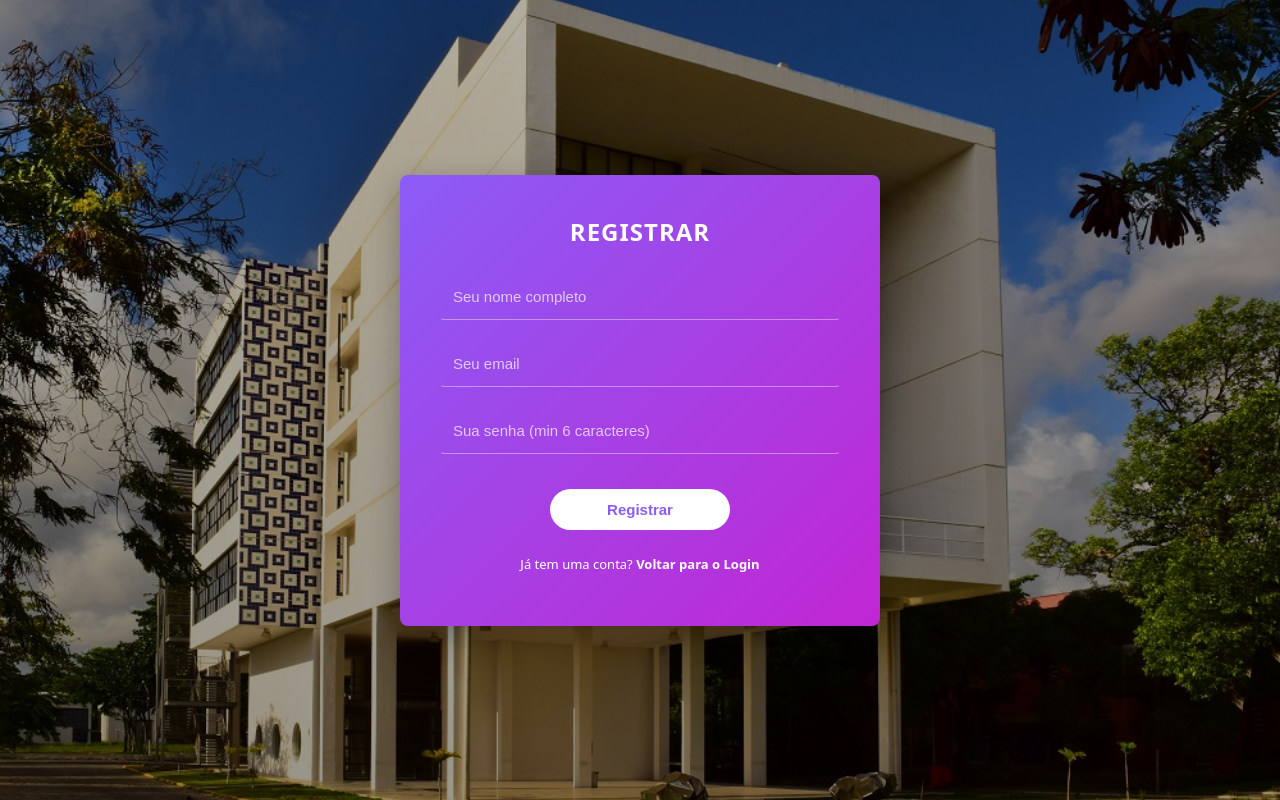
Scenario: Página de Registro › deve bloquear o registro se a senha tiver menos de 6 caracteres
The image size is (1280, 800).
Type "Novo Usuário" into the field with placeholder "Seu nome completo".
click(640, 296); type("Novo Usuário")  # box [453,284,827,308]
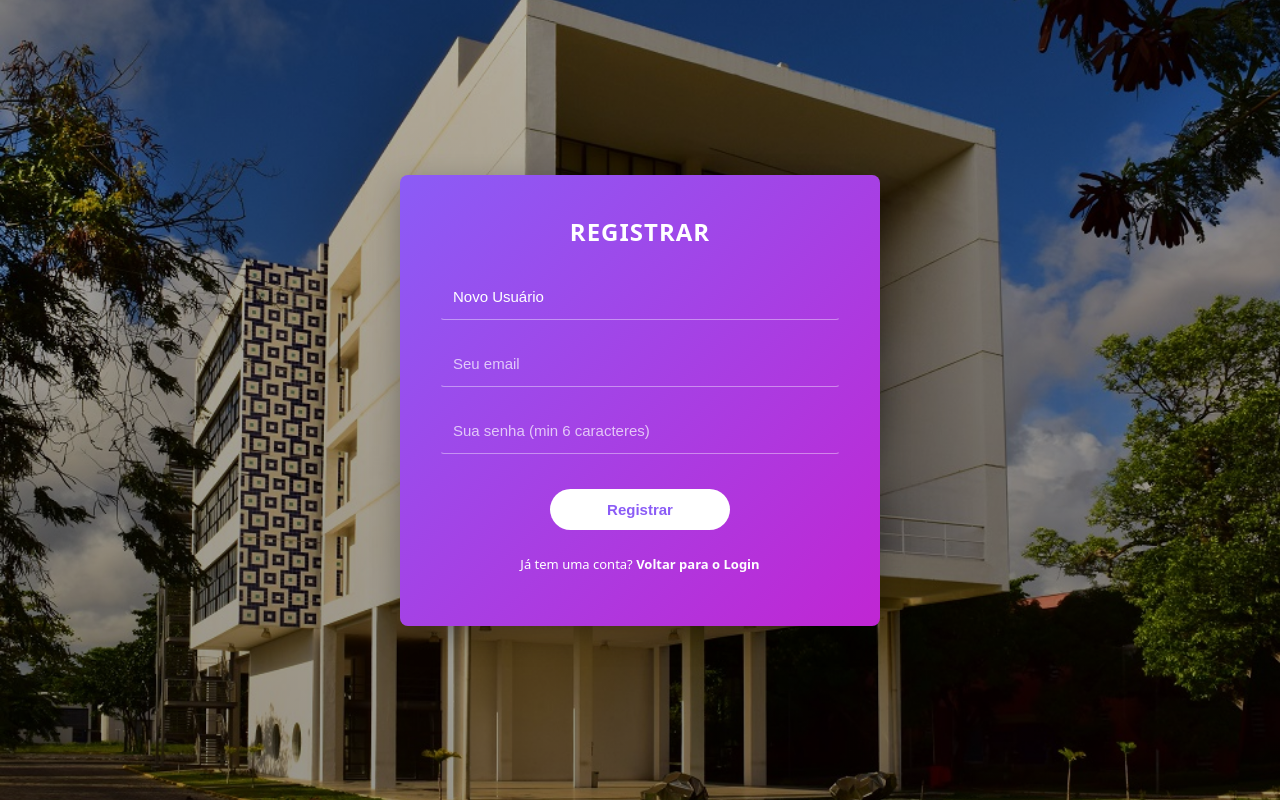
Type "novo@gmail.com" into the field with placeholder "Seu email".
click(640, 363); type("novo@gmail.com")  # box [453,350,827,376]
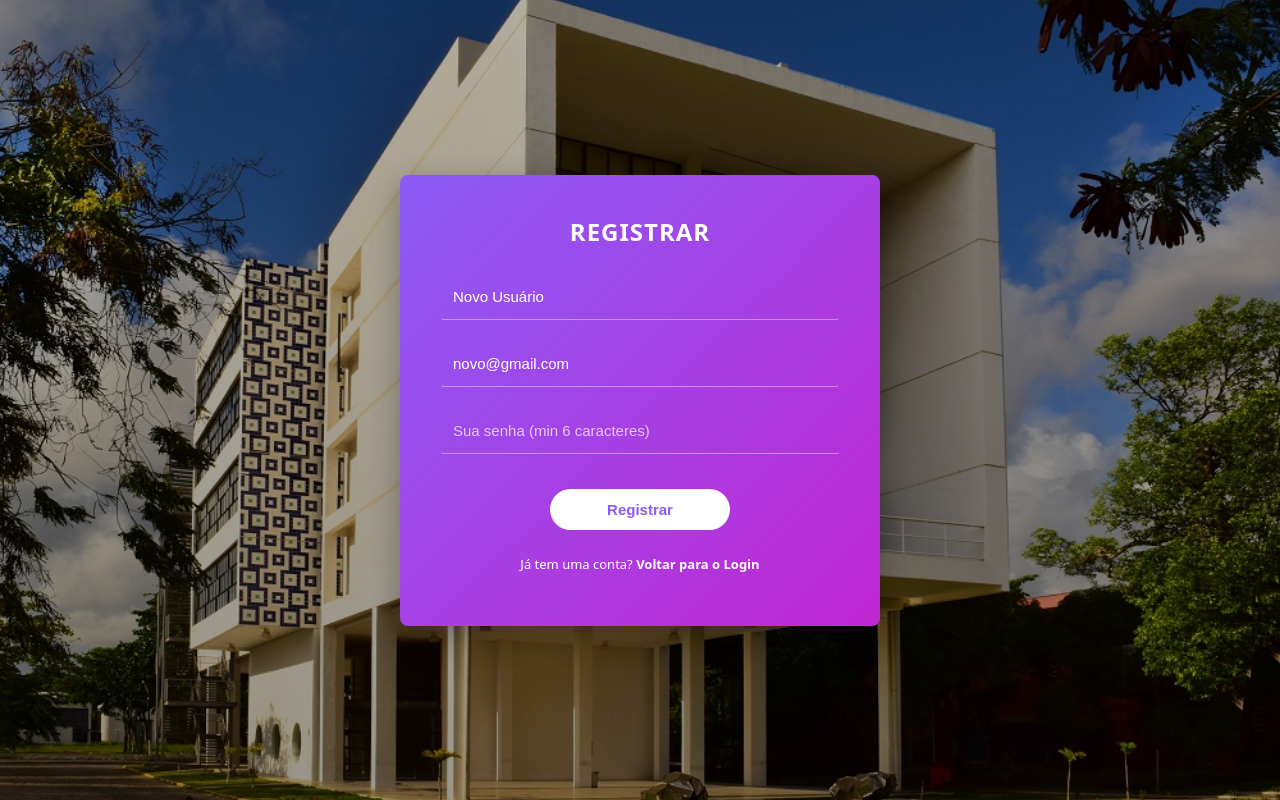
Type "12345" into the password field with placeholder "Sua senha (min 6 caracteres)".
click(640, 430); type("12345")  # box [453,418,827,442]
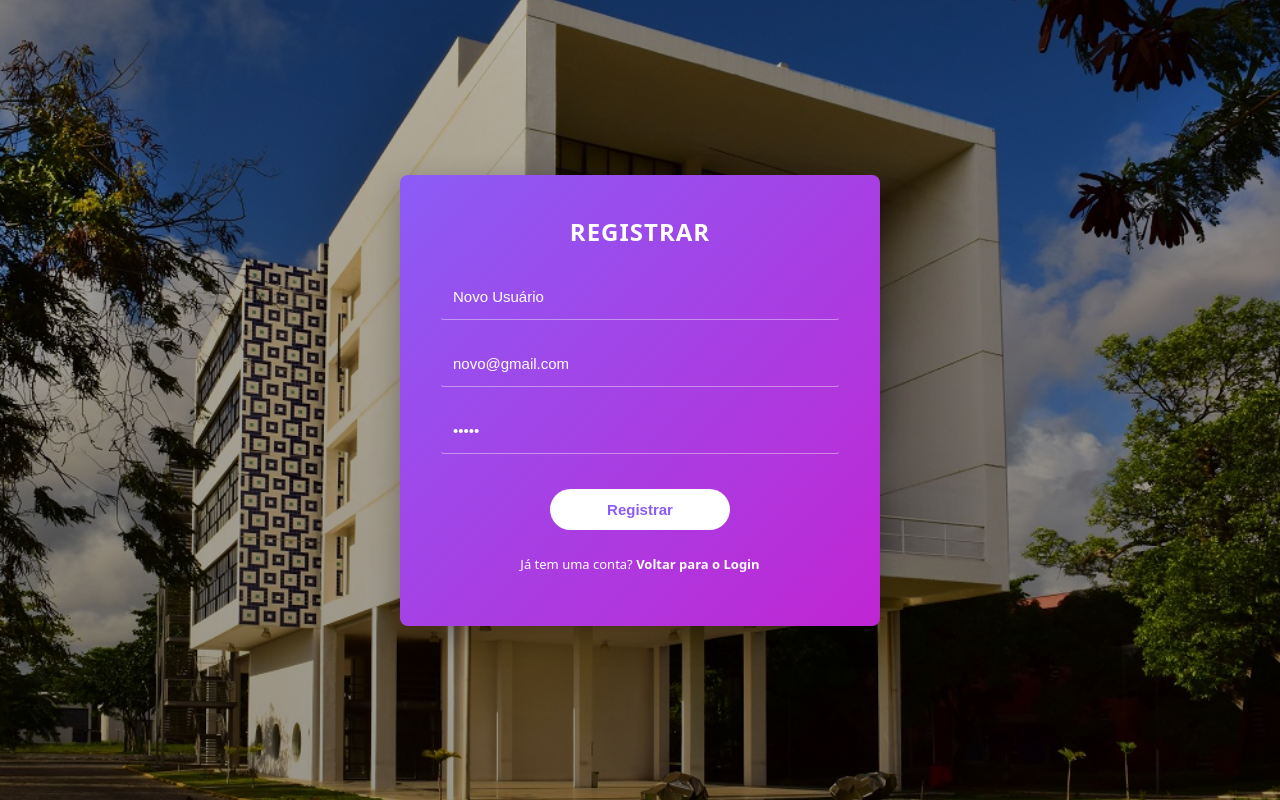
Click the button "Registrar".
click(640, 509)  # box [550,488,730,530]
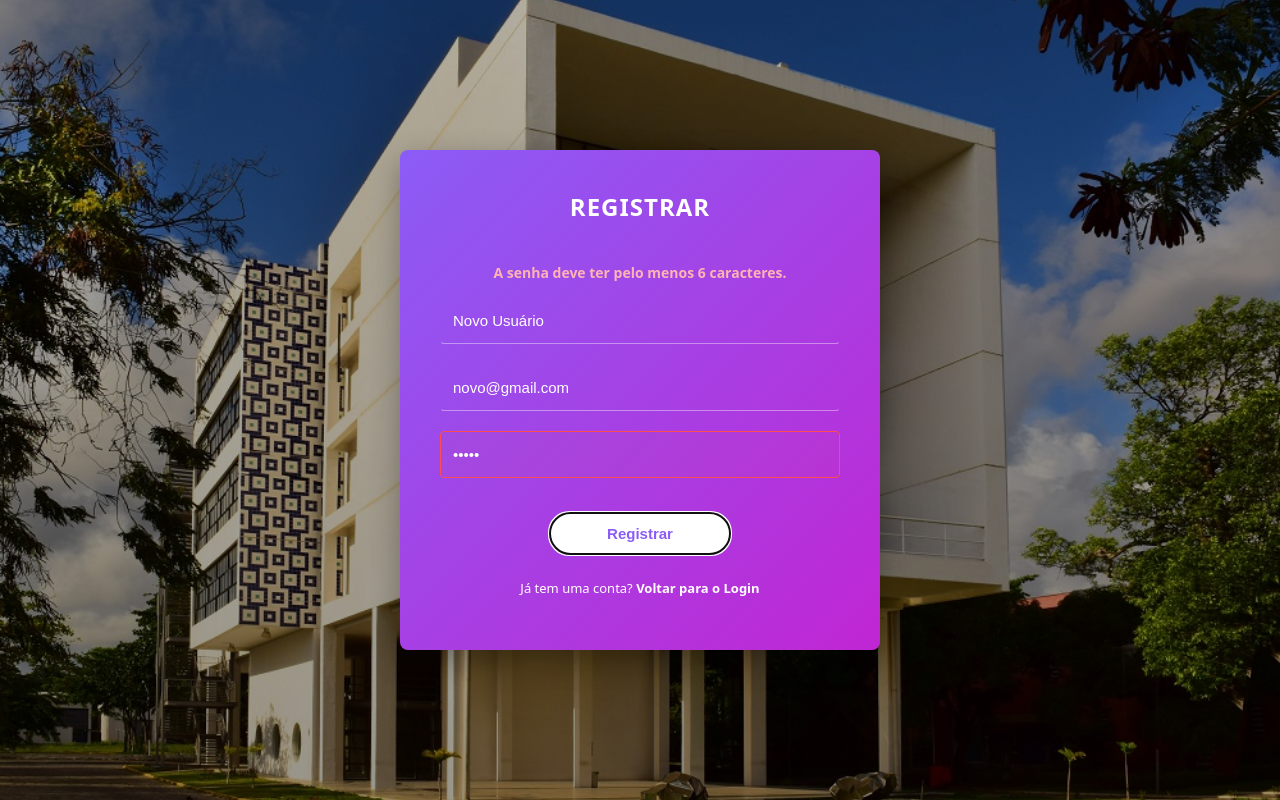
Now the text "A senha deve ter pelo menos 6 caracteres." is shown, box [494,262,786,282]
